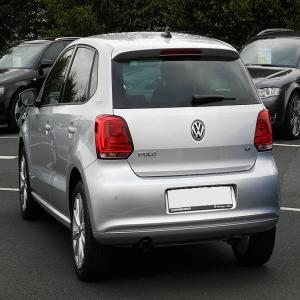Vehicle-registration-plate: (168, 187, 233, 214)
